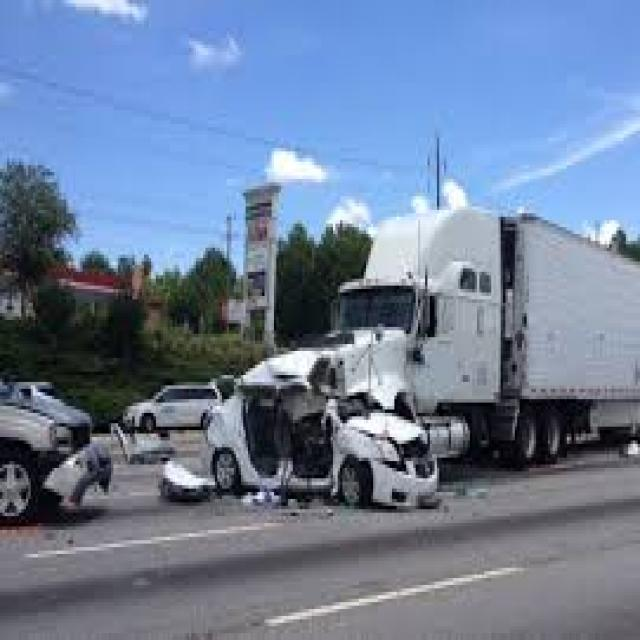accident: (161, 326, 492, 549), (2, 360, 138, 548)
